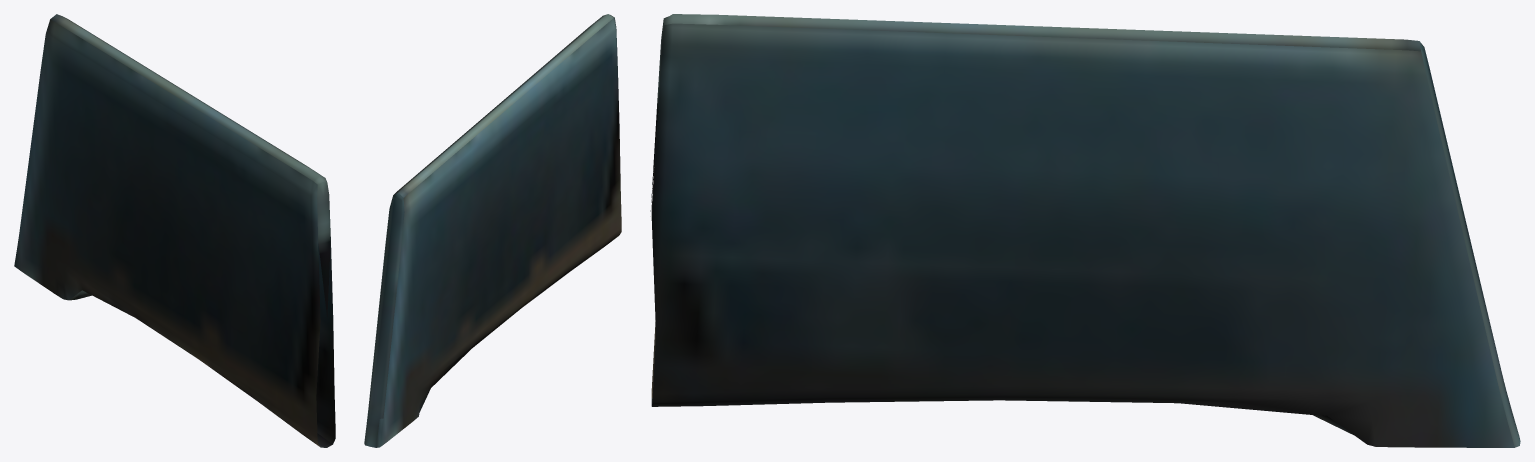
File: cartridge.glb
3 views of the same model, side by side, from view 1: azimuth 30°, elevation 25°; view 2: azimuth 150°, elevation 25°; view 3: azimuth 270°, elevation 25° (orthographic). The views are drawn at different scales.
Parts seen in each view (by area): view 1: Model.001_Baked_Model.001_baked_0.011; view 2: Model.001_Baked_Model.001_baked_0.011; view 3: Model.001_Baked_Model.001_baked_0.011.
Part boxes in pixels (x1=…): Model.001_Baked_Model.001_baked_0.011: x1=14, y1=14, x2=335, y2=447; Model.001_Baked_Model.001_baked_0.011: x1=364, y1=14, x2=621, y2=447; Model.001_Baked_Model.001_baked_0.011: x1=650, y1=14, x2=1520, y2=447.
Size of the model in its own units: 3.32 by 33.59 by 61.06.
1 material, 1 textured.
